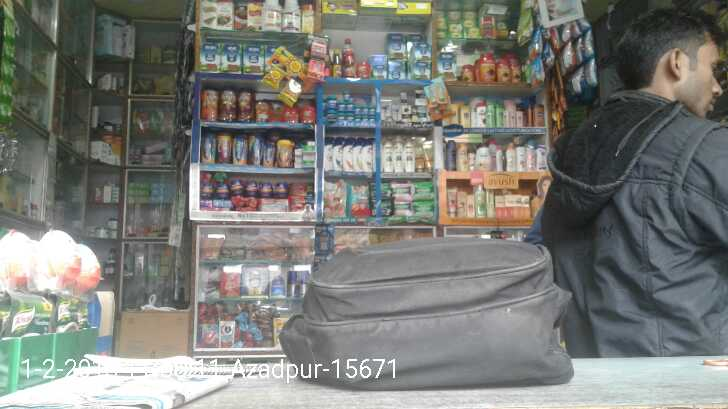vicks: (323, 91, 378, 127)
